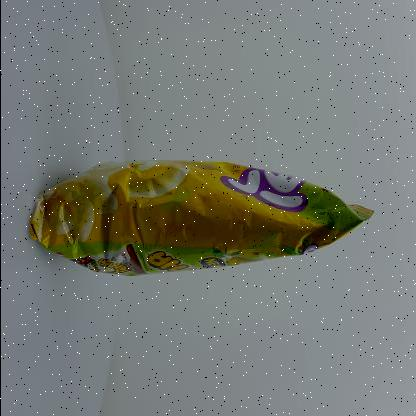Others: (14, 151, 382, 297)
